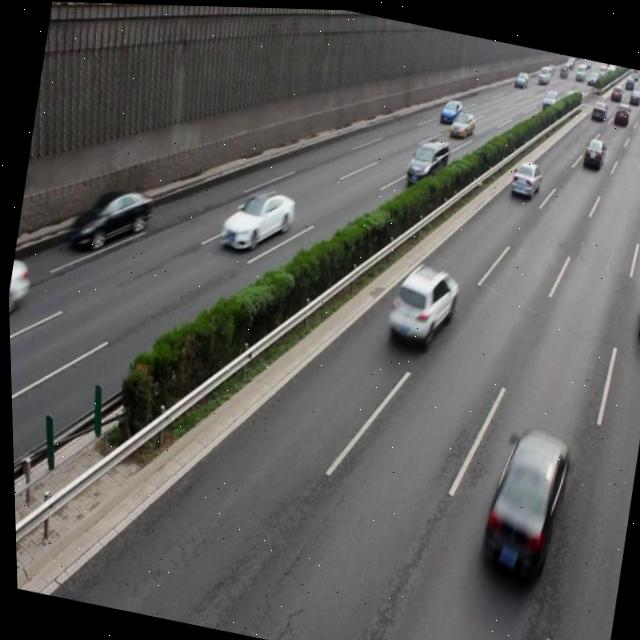car: (468, 414, 574, 580), (66, 175, 155, 257), (383, 255, 459, 348), (217, 180, 297, 256), (6, 256, 32, 319), (507, 156, 541, 197), (579, 131, 605, 165), (446, 104, 474, 135), (630, 261, 640, 338)
truck: (401, 129, 450, 185)
